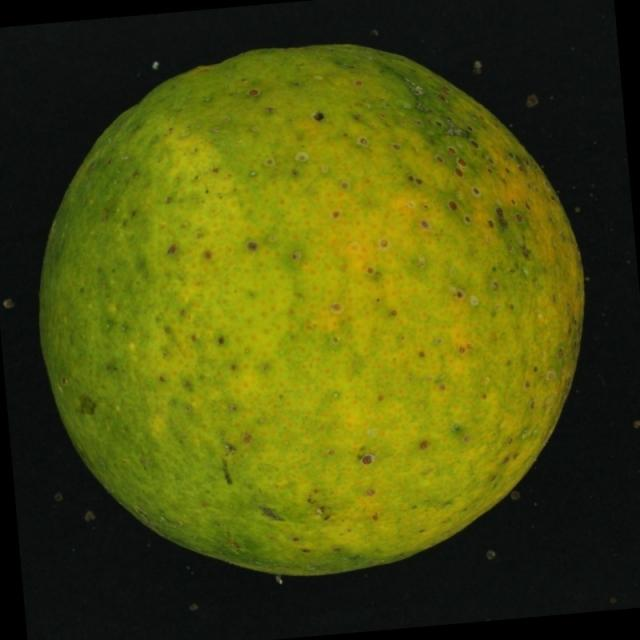grenning: (24, 26, 607, 596)
